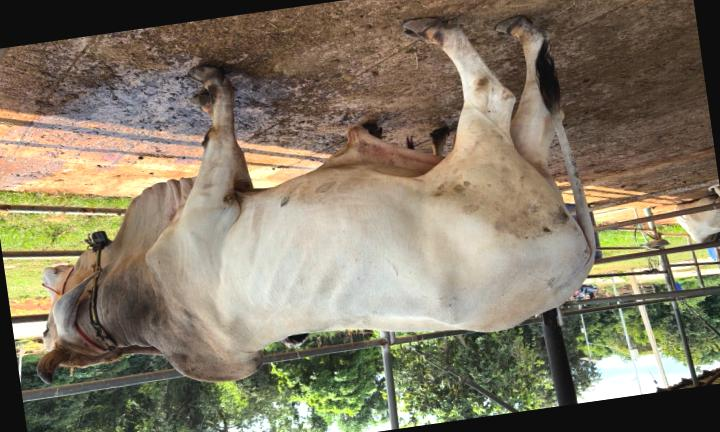Brahman: (37, 17, 595, 383)
